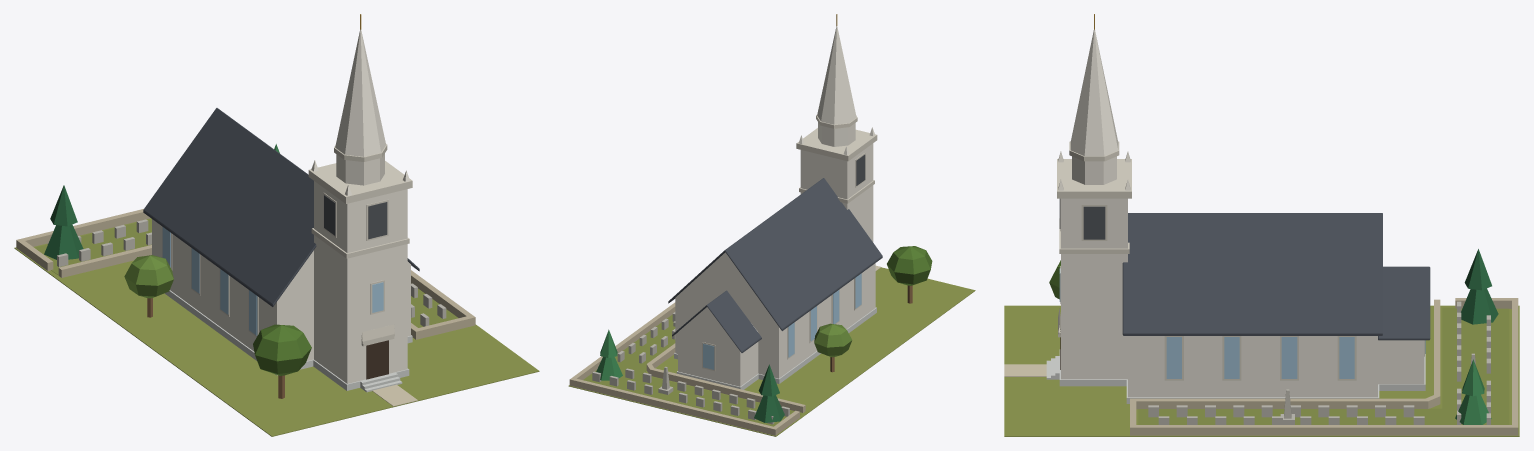
The model's file is church.glb.
3 renders of one model, left to right at view 1: azimuth 30°, elevation 25°; view 2: azimuth 150°, elevation 25°; view 3: azimuth 270°, elevation 25°, orthographic. The views are drawn at different scales.
Visible parts, largest first — view 1: church; view 2: church; view 3: church.
Part boxes in pixels (box(x1,y1,x2,y2)): church: box(14, 14, 539, 436); church: box(568, 14, 975, 436); church: box(1004, 14, 1519, 436).
Bounding box in the file's own units: 24 × 30.6 × 40.
